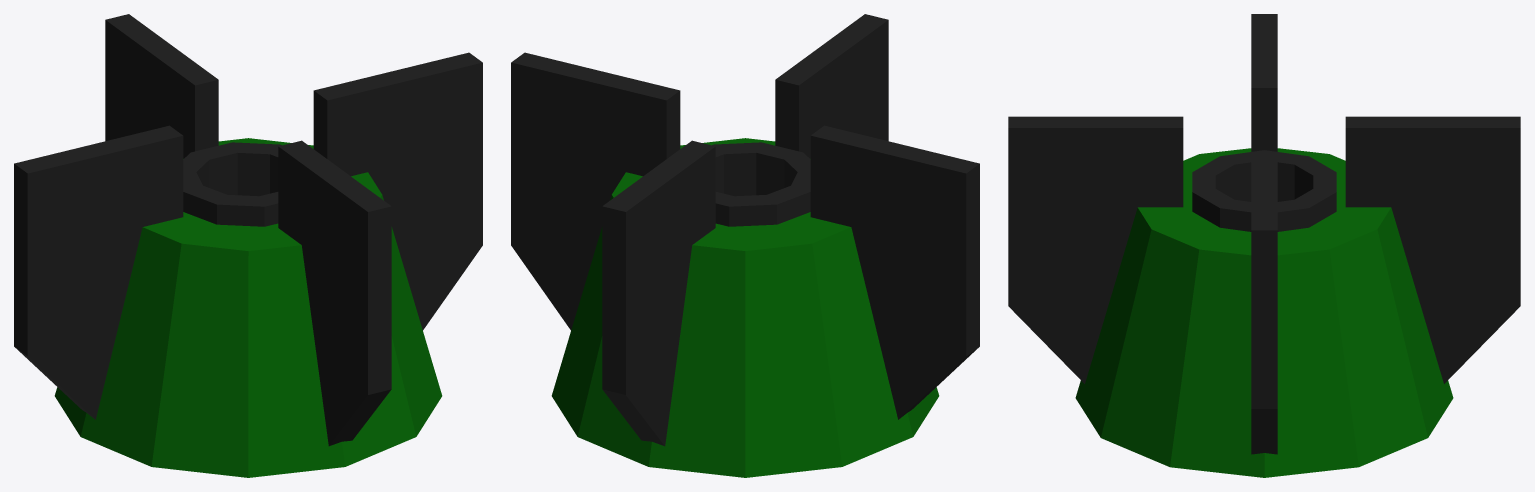
Rendered from Prop_Industrial_Rocket_Tail_02.FBX.
3 renders of one model, left to right at view 1: azimuth 30°, elevation 25°; view 2: azimuth 150°, elevation 25°; view 3: azimuth 270°, elevation 25°, orthographic. The views are drawn at different scales.
Visible parts, largest first — view 1: Prop_Industrial_Rocket_Tail_02; view 2: Prop_Industrial_Rocket_Tail_02; view 3: Prop_Industrial_Rocket_Tail_02.
Part boxes in pixels (<box>): Prop_Industrial_Rocket_Tail_02: <box>14,14,482,477</box>; Prop_Industrial_Rocket_Tail_02: <box>511,14,979,477</box>; Prop_Industrial_Rocket_Tail_02: <box>1008,14,1520,477</box>.
Bounding box in the file's own units: 2084 × 1239 × 2084.
